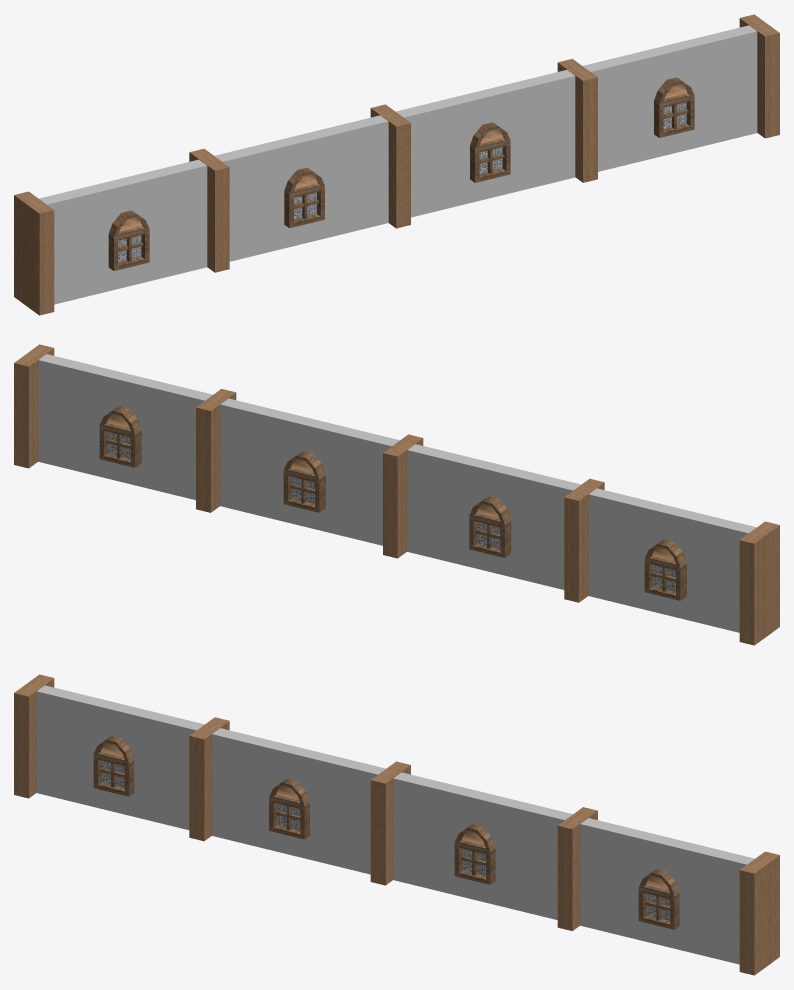
Rendered from Butcher_sidewall1.fbx.
The picture shows the model from 3 angles, top to bottom: view 1: azimuth 30°, elevation 25°; view 2: azimuth 150°, elevation 25°; view 3: azimuth 330°, elevation 25°; orthographic projection.
Visible parts, largest first — view 1: Butcher_sidewall1; view 2: Butcher_sidewall1; view 3: Butcher_sidewall1.
Part boxes in pixels (x1,y1,x2,y2): Butcher_sidewall1: [14, 14, 779, 315]; Butcher_sidewall1: [14, 344, 779, 645]; Butcher_sidewall1: [14, 674, 779, 975].
Bounding box in the file's own units: 182 × 23.91 × 10.83.
